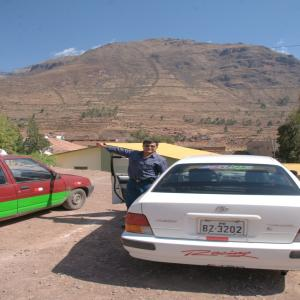Vehicle-registration-plate: (201, 221, 245, 236)
